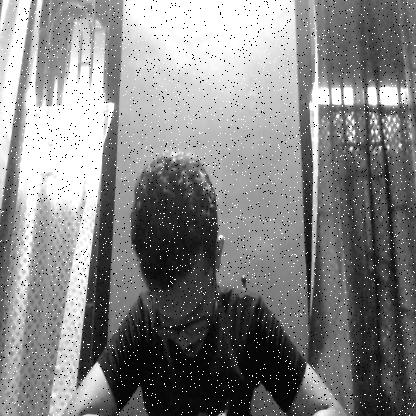Distracted: (142, 148, 222, 380)
